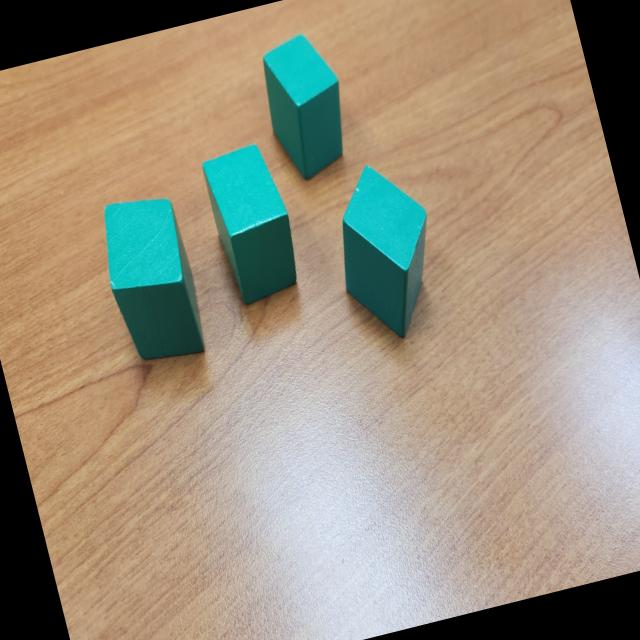green: (318, 152, 454, 348), (90, 187, 212, 371), (197, 140, 307, 308), (250, 27, 360, 186)
